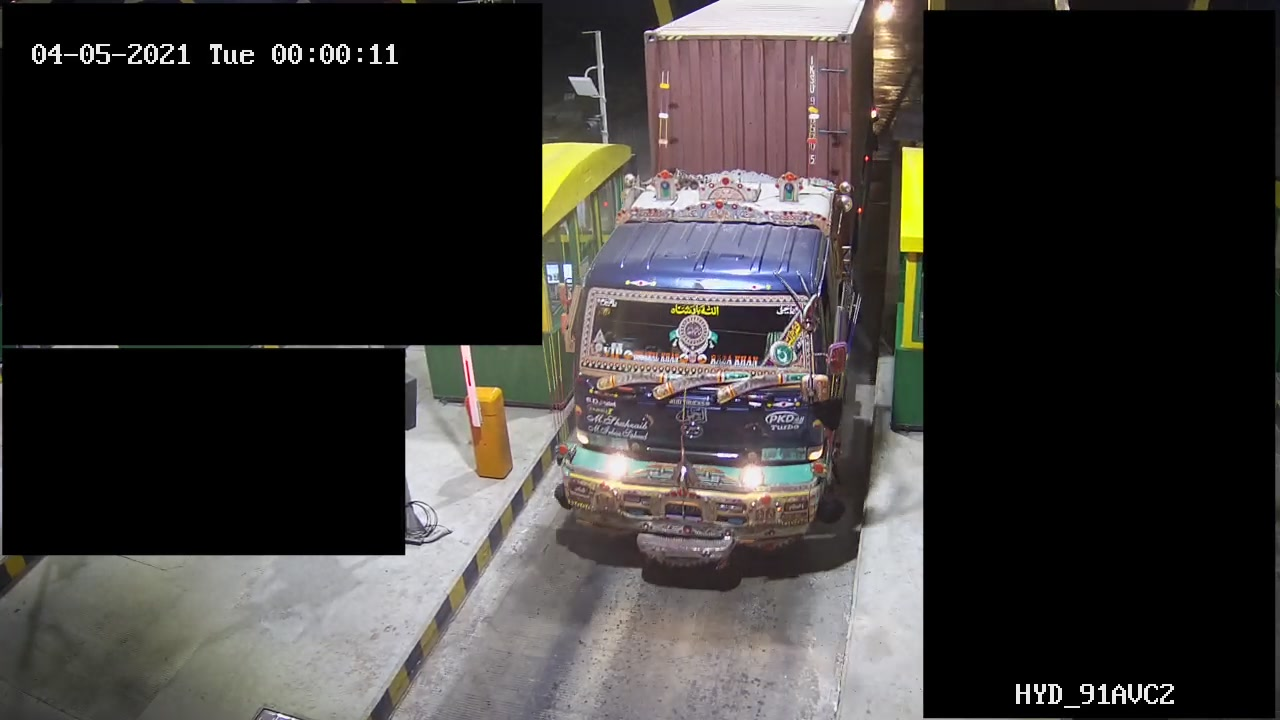F6: (554, 1, 884, 591)
